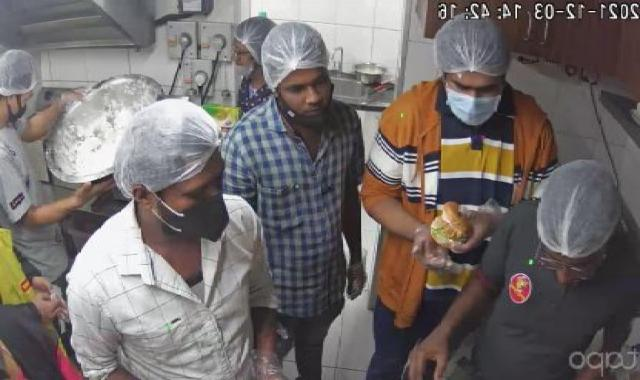hairnet: (112, 98, 230, 193), (520, 163, 636, 258), (427, 14, 531, 86), (260, 20, 350, 88), (215, 12, 278, 67), (0, 46, 55, 97)
